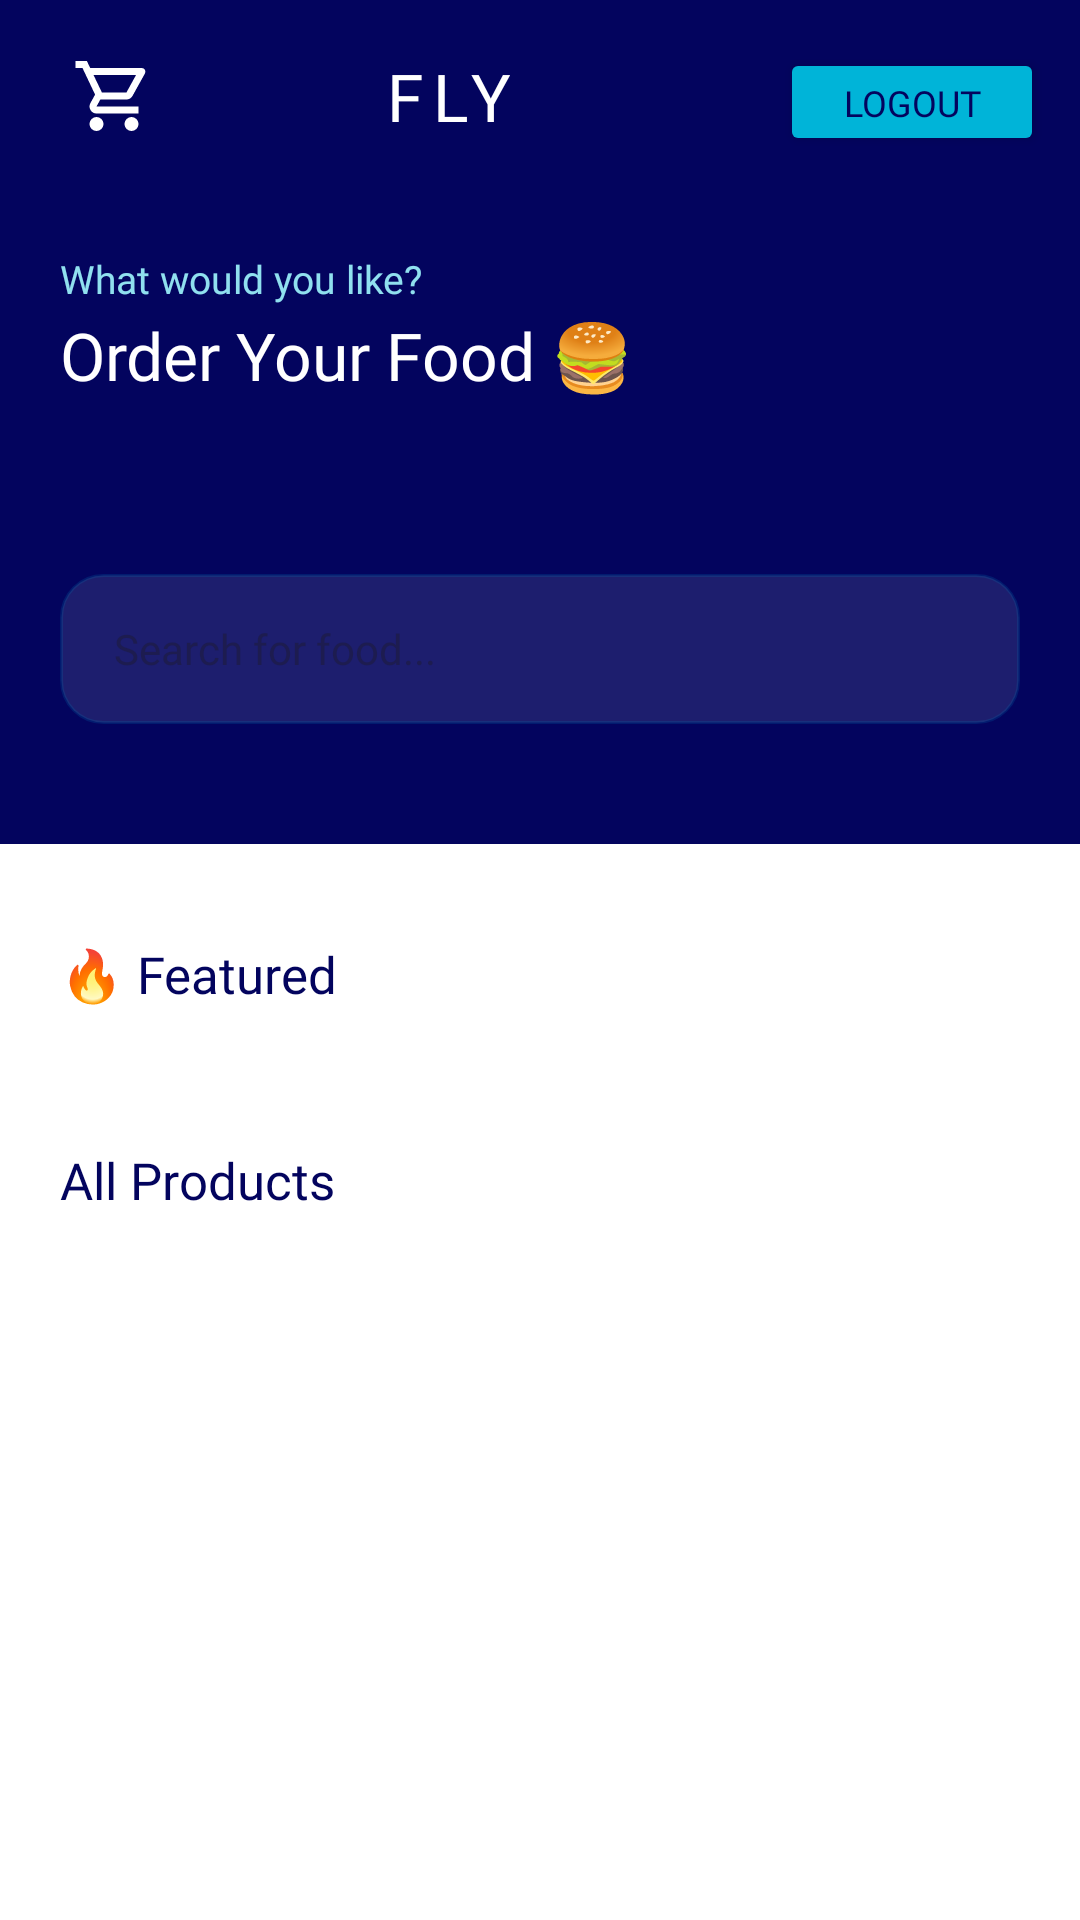

Icons on this 1080 x 1920 Android screen, each with its box as (x1, y1, x2, y2):
Cart: (75, 61, 146, 131)
